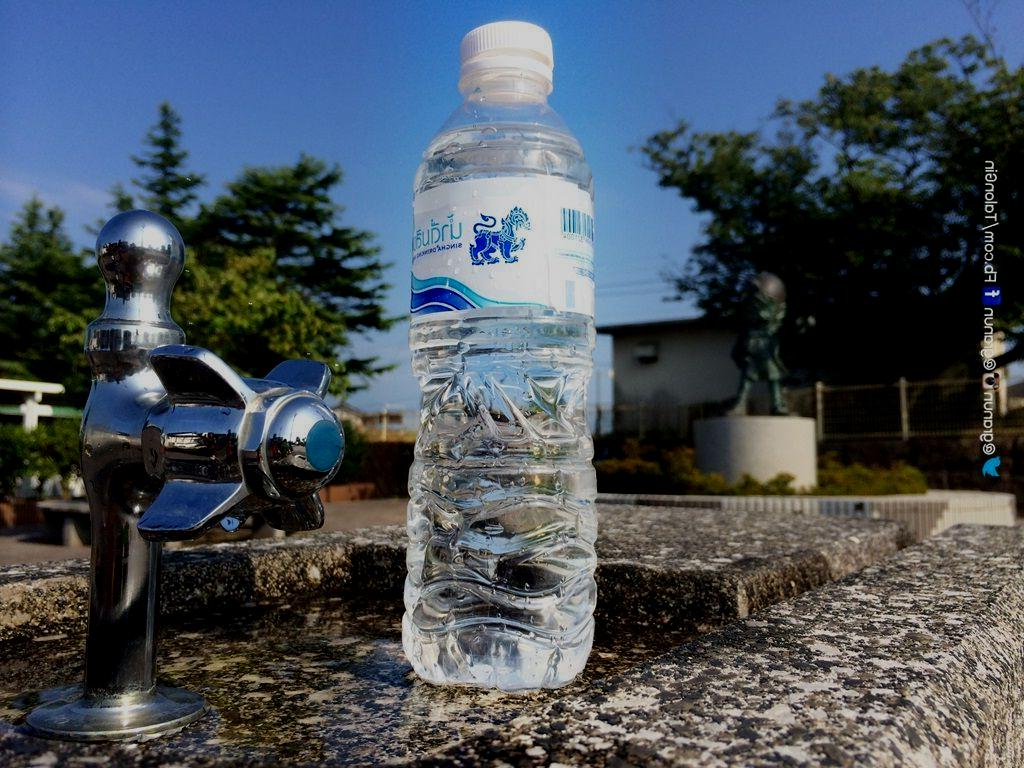bottle: (402, 21, 597, 691)
